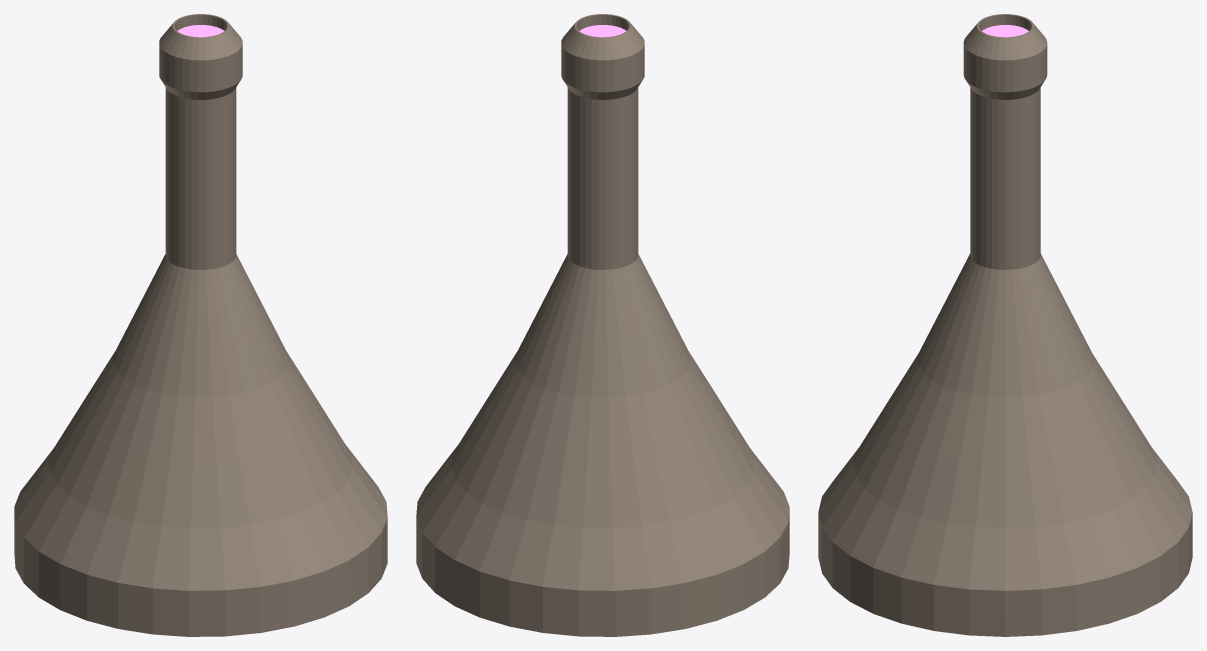
Rendered from LabGlass1.fbx.
3 views of the same model, side by side, from view 1: azimuth 30°, elevation 25°; view 2: azimuth 150°, elevation 25°; view 3: azimuth 270°, elevation 25° (orthographic).
Parts seen in each view (by area): view 1: Cylinder; view 2: Cylinder; view 3: Cylinder.
Boxes of the visible parts, x1,y1,x2,y2 form: Cylinder: (14, 14, 387, 636); Cylinder: (416, 14, 789, 636); Cylinder: (818, 14, 1192, 636).
Bounding box in the file's own units: 200 × 314 × 200.
